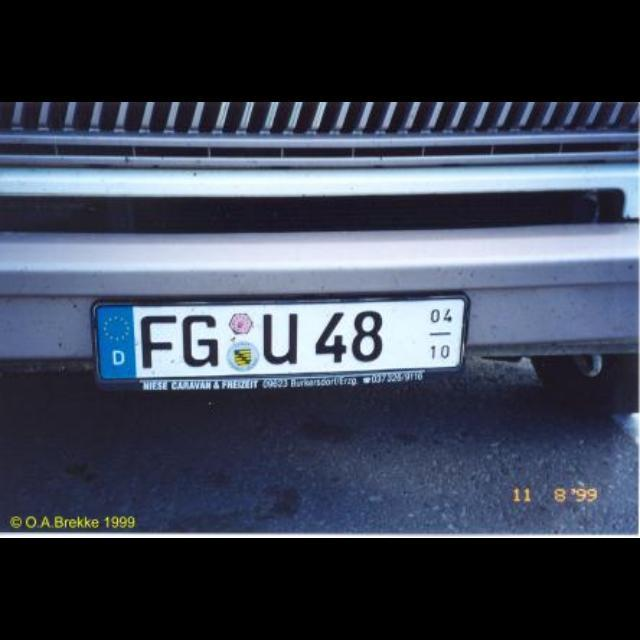license-plates: (95, 297, 468, 390)
